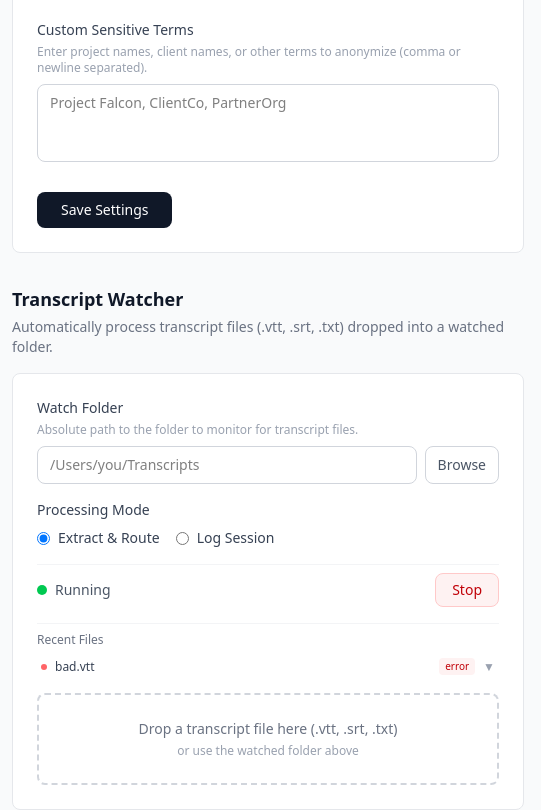
Test case: Settings — Transcript Watcher › shows error reason for failed files
(page scrolled)
Click the text "bad.vtt" at {"x": 75, "y": 666}, box 55,658 -> 94,675
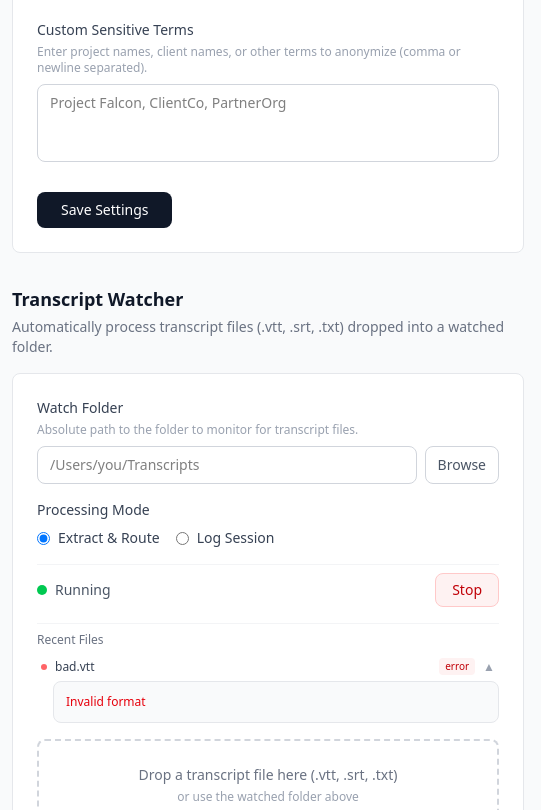
expect the text "Invalid format" is shown: met, box 66,693 -> 146,710
